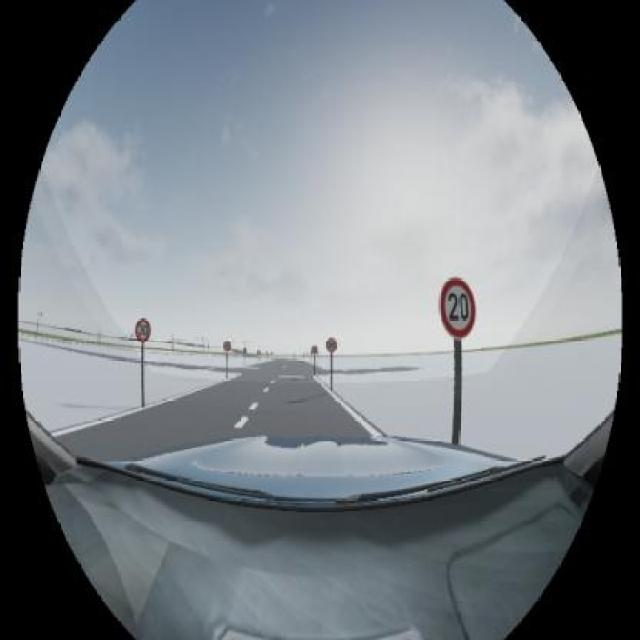forb_speed_over_20: (439, 276, 476, 339)
forb_speed_over_30: (136, 316, 150, 341)
